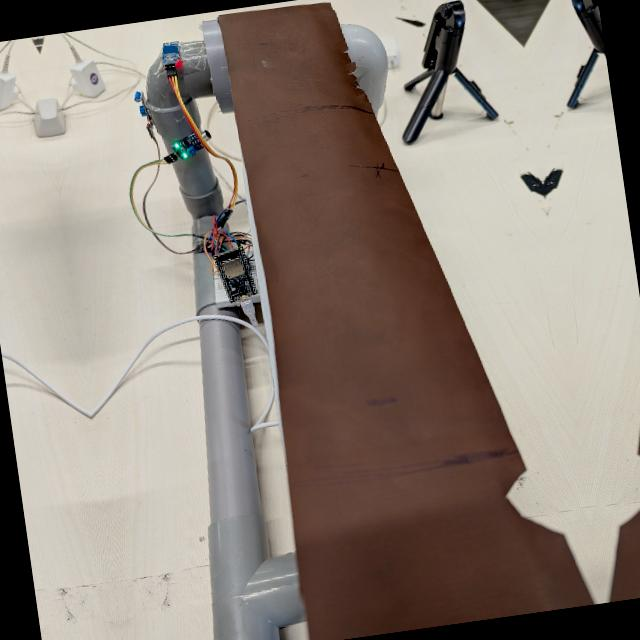edge_damage: (333, 41, 390, 112)
